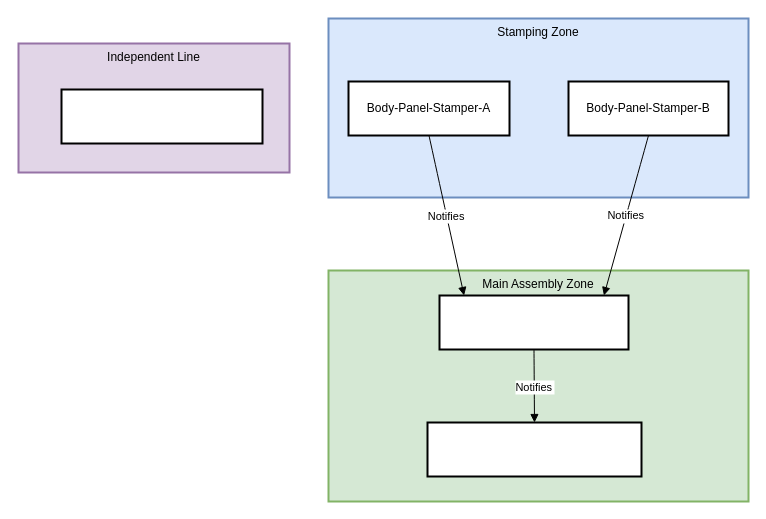
Image size: 766x519. Some labels were removed from this diagram. The centre of each missing label's shape, as x and y in pixels:
"Chassis-Welder-01" goes at [533,322].
"Door-Assembly-Line" goes at [161,116].
"Engine-Mount-Station" goes at [534,449].
